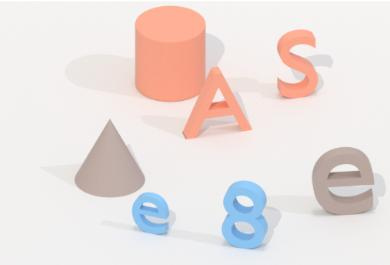0-KhoiTru: (132, 2, 209, 103)
0-TamGiac: (69, 114, 148, 200)
8: (217, 176, 273, 254)
A: (180, 65, 254, 143)
S: (274, 23, 321, 102)
e: (308, 143, 379, 220), (128, 189, 173, 237)
